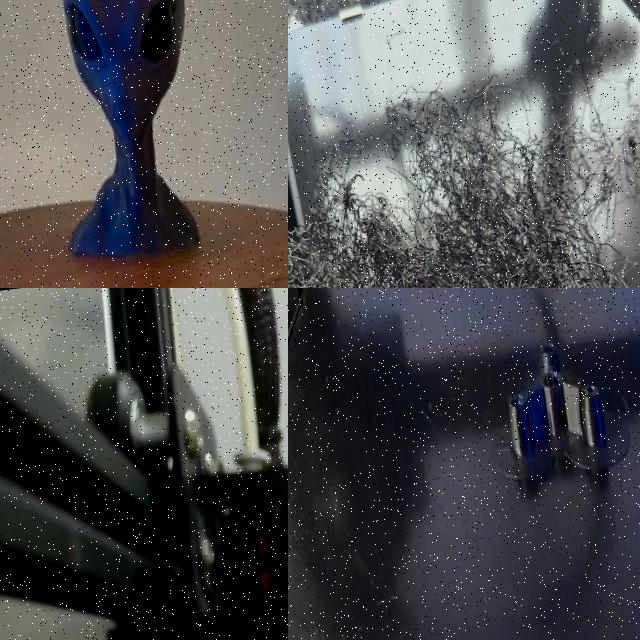spaghetti: (288, 76, 640, 288), (578, 0, 640, 206)
